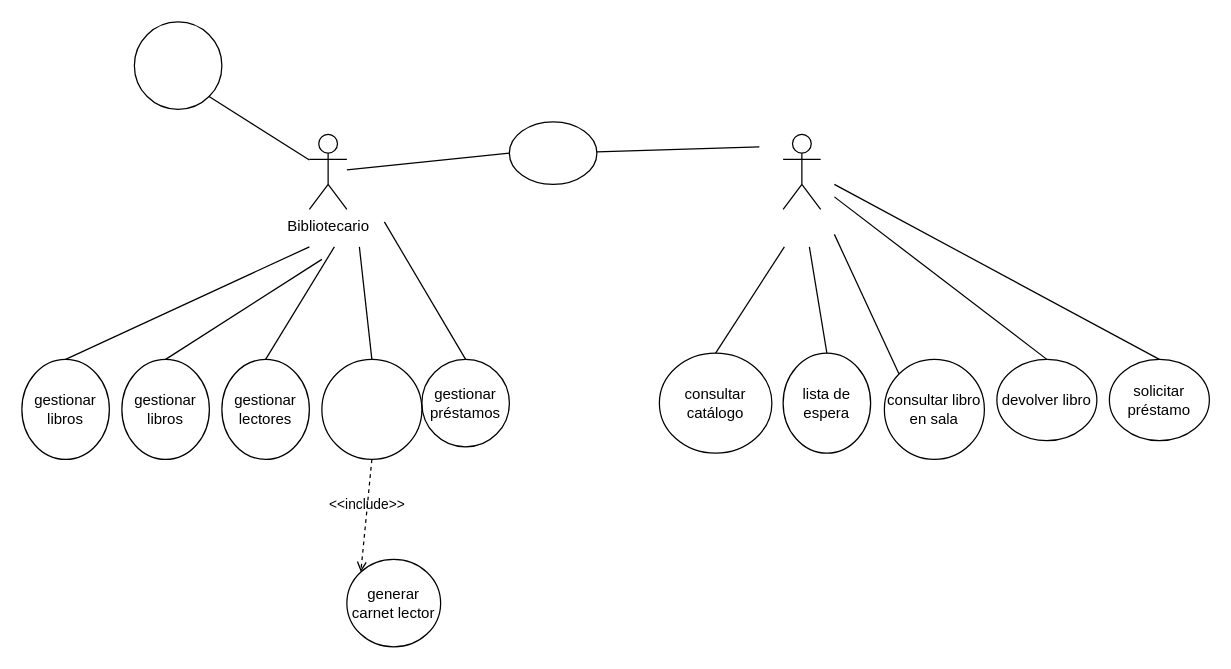
Some shapes in this 1231 by 669 pixel diagram are drawn without their labels. Each missing label, with the centre of its shape:
dar de alta lector: point (371, 408)
gestionar devuluciones: point (177, 65)
Lector: point (801, 171)
login: point (552, 152)
